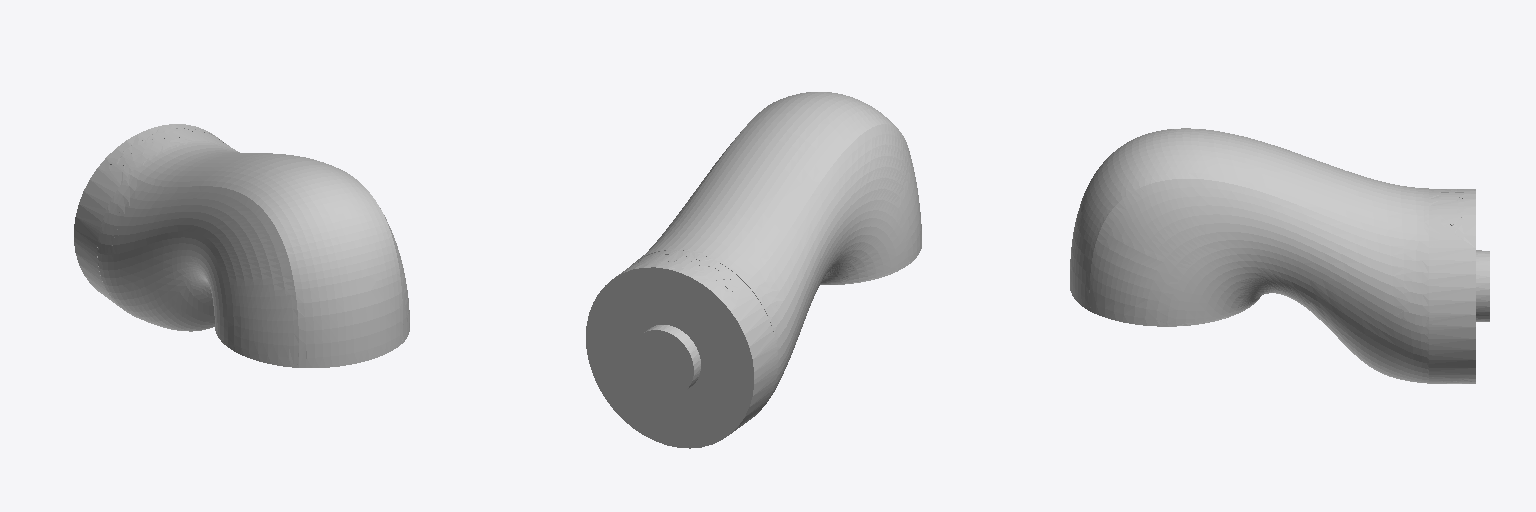
Rendered from link_3_vis.obj.
The picture shows the model from 3 angles: view 1: azimuth 30°, elevation 25°; view 2: azimuth 150°, elevation 25°; view 3: azimuth 270°, elevation 25°; orthographic projection.
Parts seen in each view (by area): view 1: Link_3_Vis; view 2: Link_3_Vis; view 3: Link_3_Vis.
Part boxes in pixels (x1,y1,x2,y2): Link_3_Vis: (74,124,409,367); Link_3_Vis: (586,92,921,448); Link_3_Vis: (1070,128,1489,383).
Size of the model in its own units: 0.136 by 0.1826 by 0.2935.